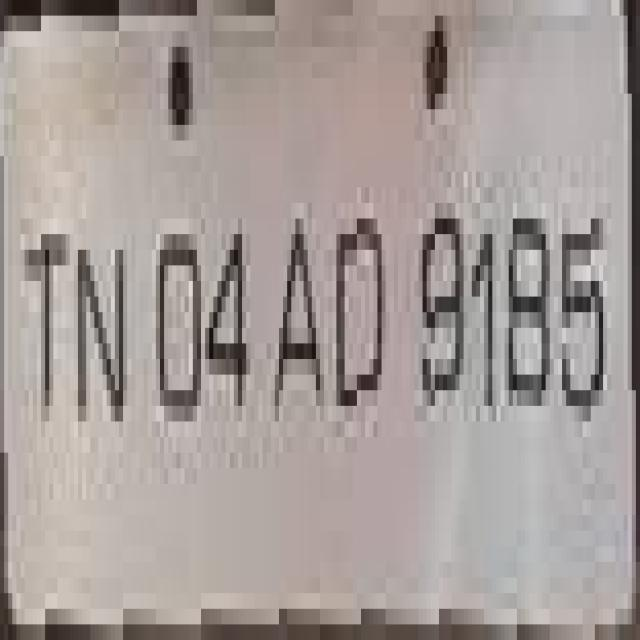license_plate: (16, 0, 640, 578)
